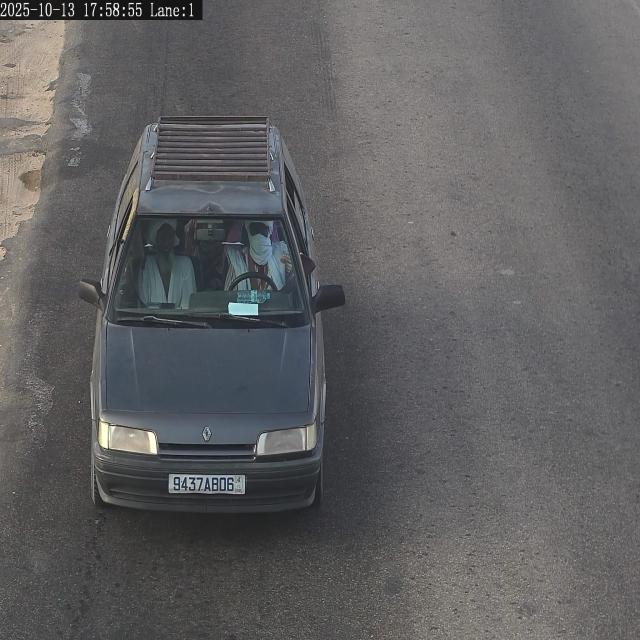BUS: (169, 474, 245, 494)
